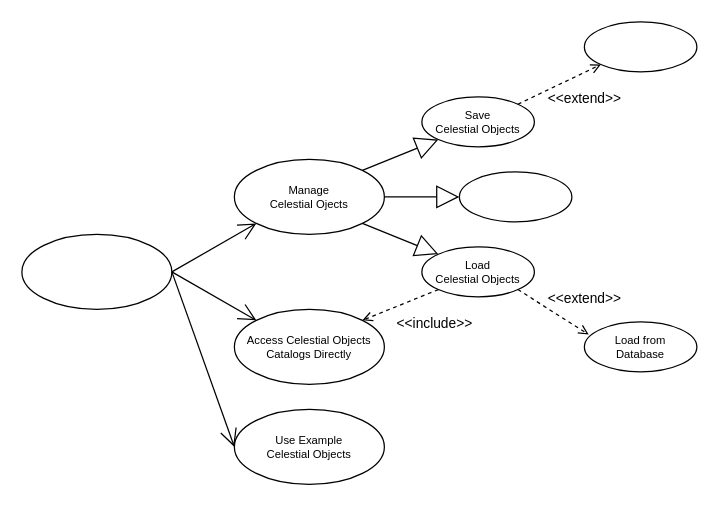
This 719x506 diagram has some shape labels left out. The shapes that lost their labels are listed below. From the top down, each one's centre as x and y in pixels, then its label:
pixel 640 46: Save to Database
pixel 515 196: Create Celestial Objects
pixel 96 271: Include Module : Celestial Objects
